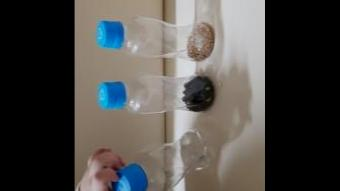bottle: (115, 126, 211, 191), (96, 12, 214, 62), (96, 70, 214, 118)
